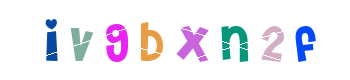2: (194, 0, 274, 80)
9: (109, 0, 189, 80)
B: (134, 0, 214, 80)
F: (198, 0, 278, 80)
I: (69, 0, 149, 80)
N: (147, 0, 227, 80)
V: (77, 0, 157, 80)
X: (146, 0, 226, 80)
